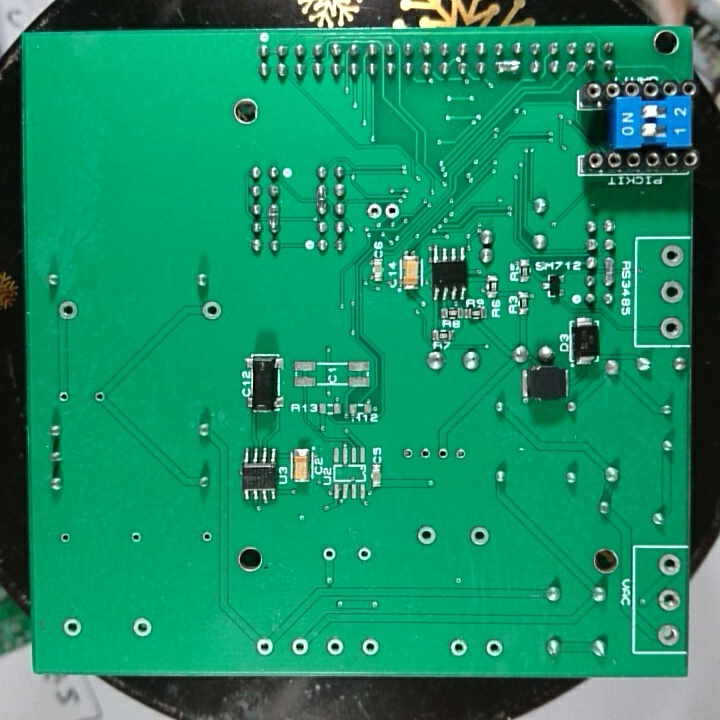F: (657, 586, 685, 615), (658, 278, 686, 306), (660, 243, 687, 271), (658, 315, 686, 342), (654, 621, 683, 646), (657, 552, 682, 579), (55, 298, 79, 325), (467, 525, 492, 550), (131, 616, 156, 640), (198, 299, 224, 322), (415, 523, 439, 547), (482, 635, 503, 662), (288, 636, 312, 659), (359, 636, 381, 660), (448, 635, 469, 660), (254, 634, 276, 657), (61, 617, 83, 638), (364, 200, 384, 223), (383, 199, 401, 222), (325, 637, 345, 657), (355, 544, 373, 566), (321, 545, 338, 566), (451, 444, 468, 464), (55, 387, 72, 405), (400, 445, 417, 463), (199, 528, 215, 547), (92, 388, 107, 408), (417, 446, 434, 463), (434, 446, 451, 463), (58, 530, 72, 547), (129, 529, 143, 546)
P: (600, 255, 617, 289), (266, 201, 282, 237), (314, 182, 330, 217), (491, 57, 522, 75)
